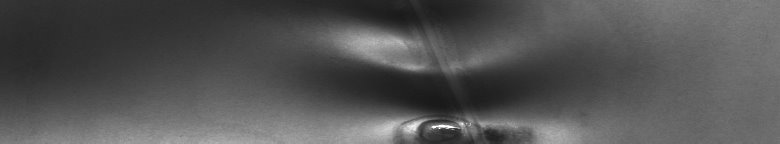ke: (320, 12, 560, 136)
